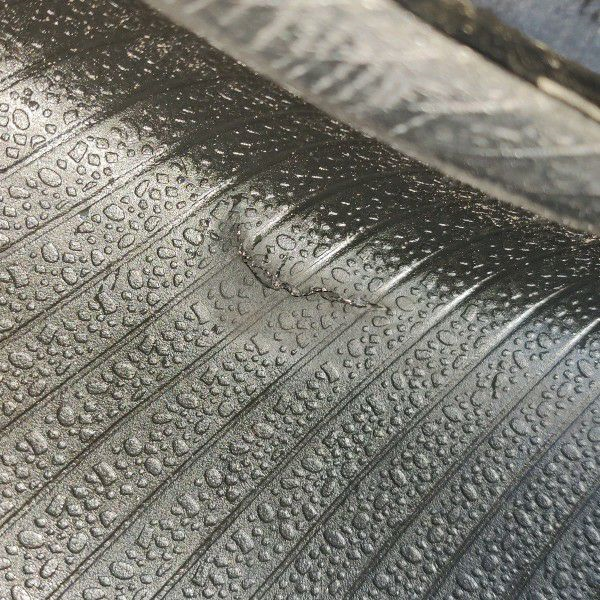CBU: (221, 190, 398, 315)
